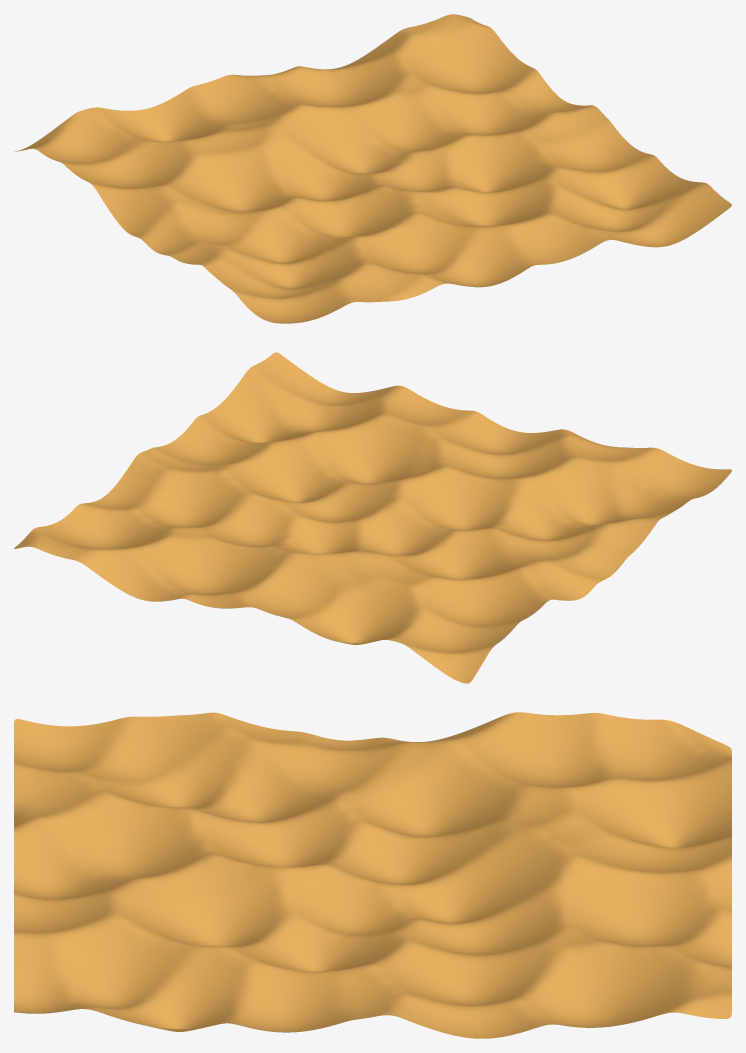
The model's file is SandBoard.fbx.
3 views of the same model, one above another, from view 1: azimuth 30°, elevation 25°; view 2: azimuth 150°, elevation 25°; view 3: azimuth 270°, elevation 25° (orthographic). The views are drawn at different scales.
Parts seen in each view (by area): view 1: Plane; view 2: Plane; view 3: Plane.
Part boxes in pixels (box(x1,y1,x2,y2)): Plane: box(14, 14, 731, 323); Plane: box(14, 352, 731, 683); Plane: box(14, 712, 731, 1038).
Bounding box in the file's own units: 40000 × 3297 × 40000.
